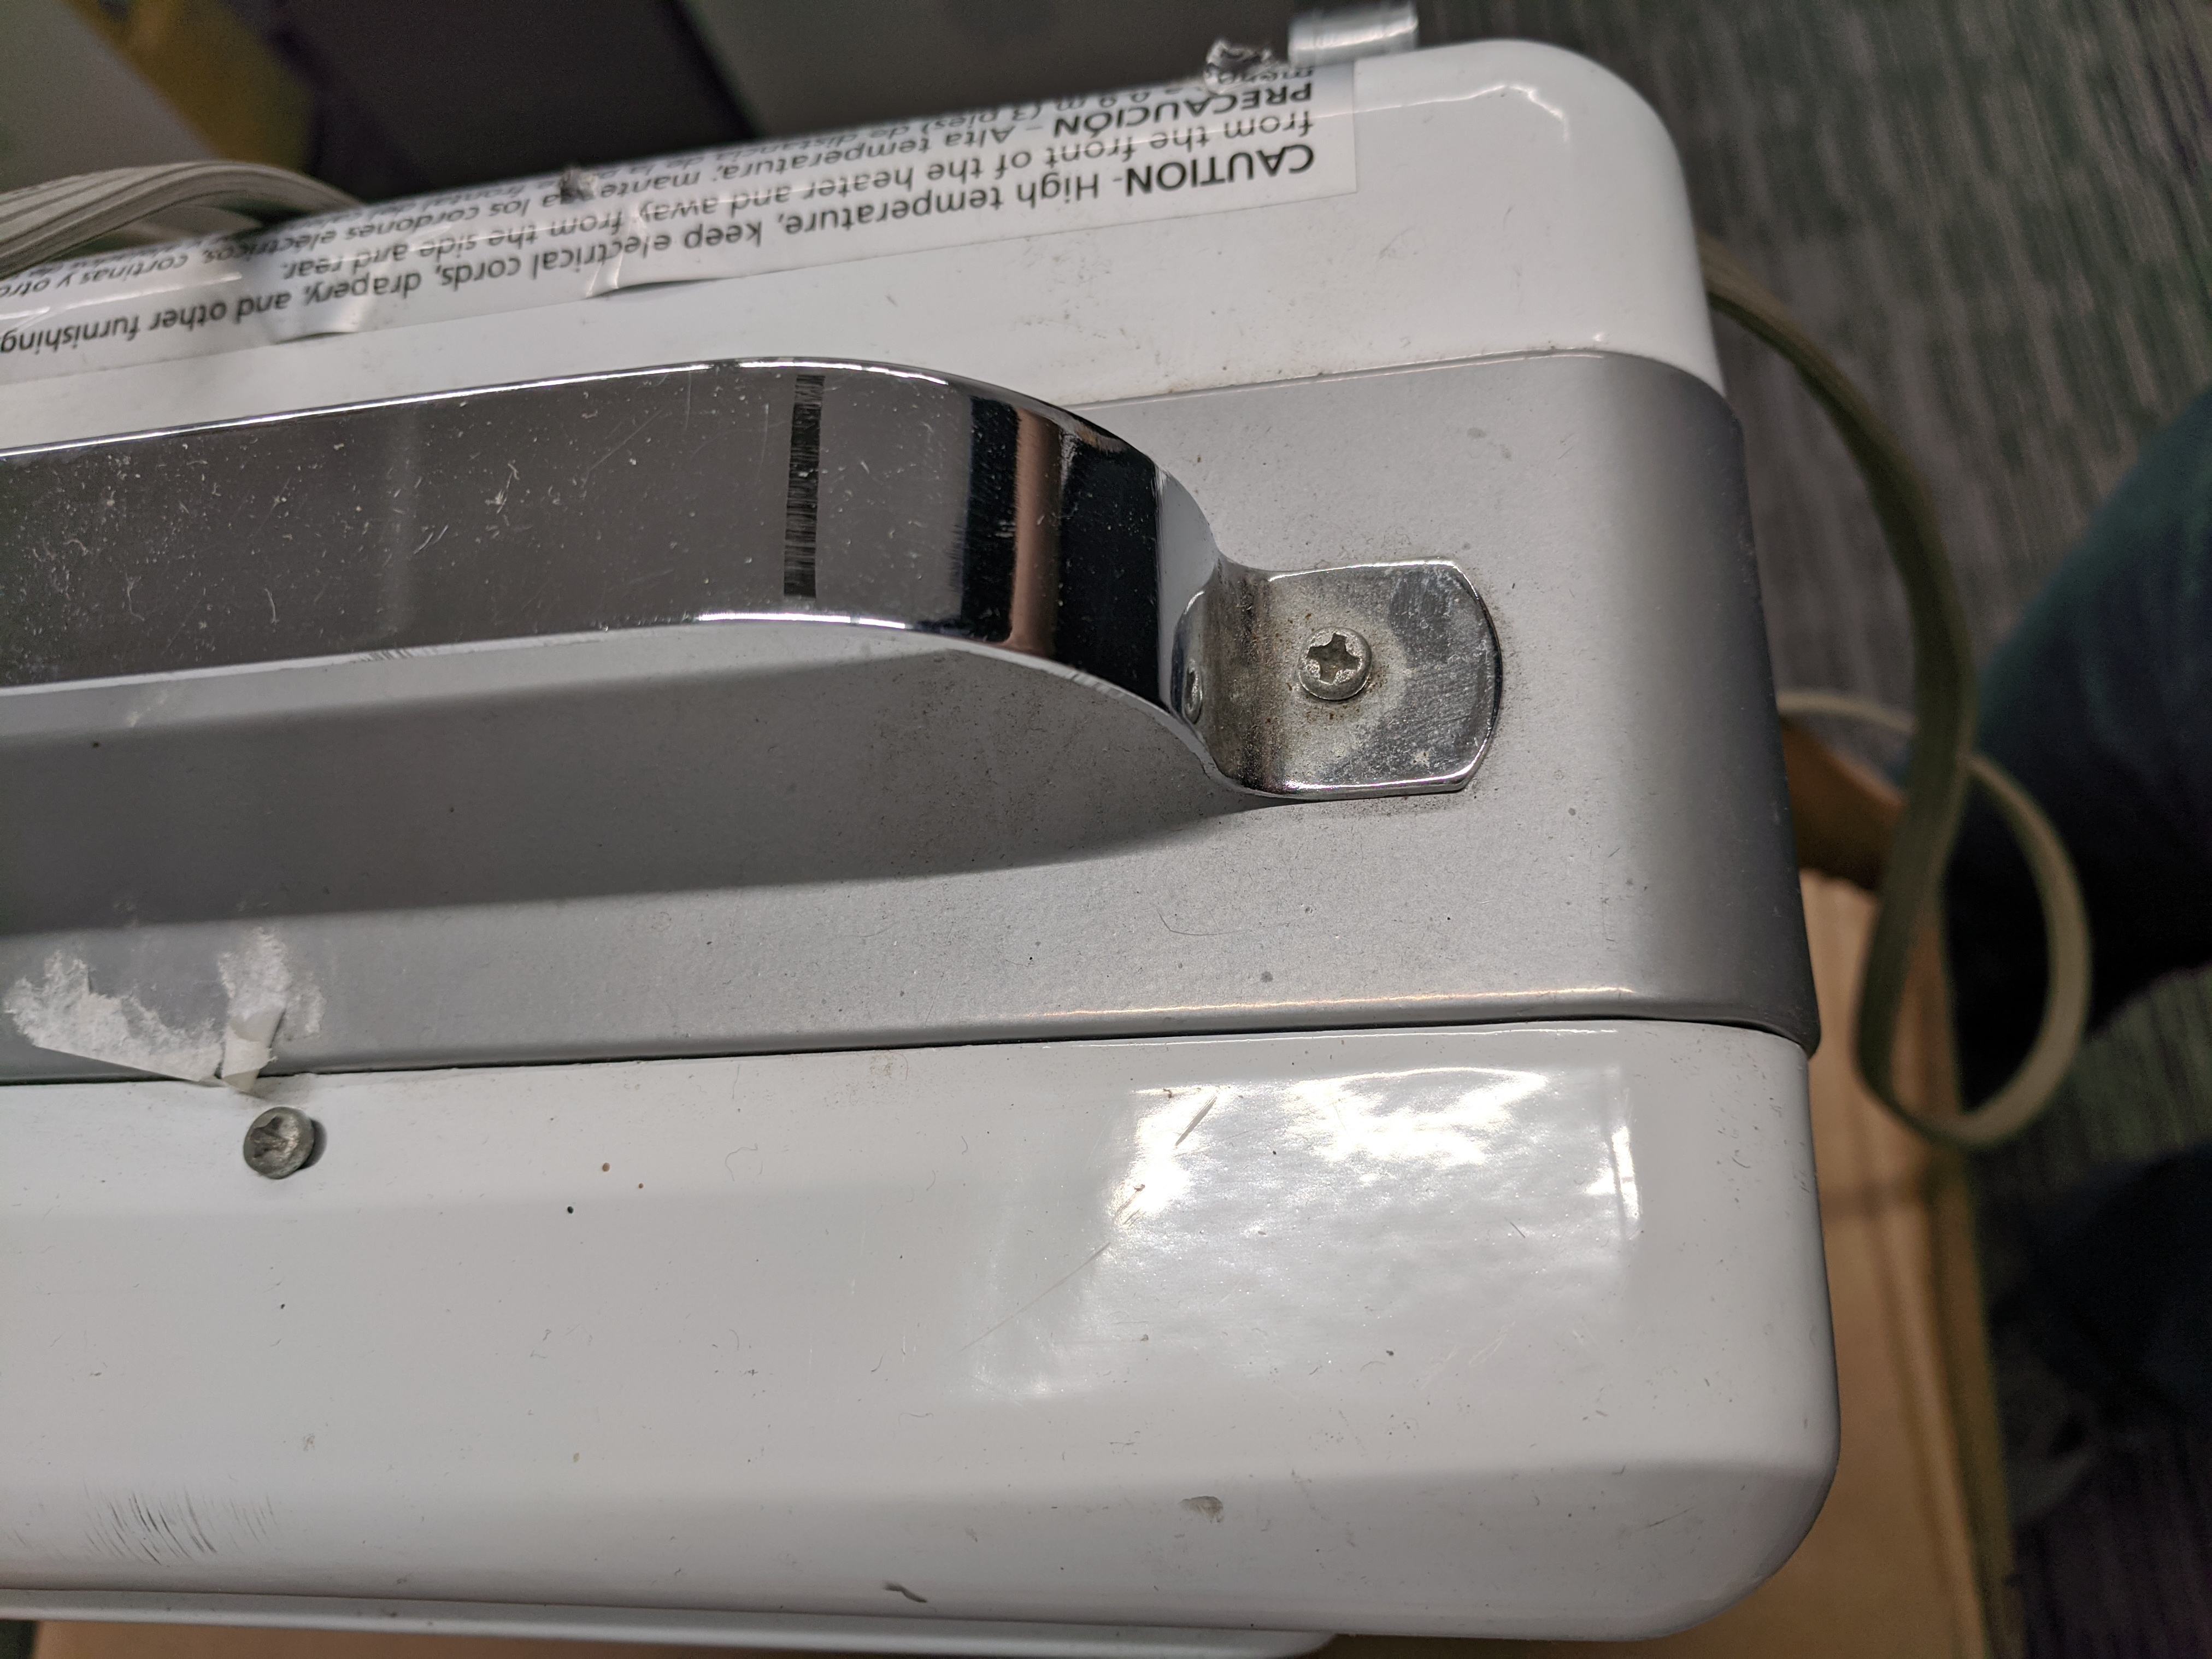cross_recessed_screw: (1291, 617, 1374, 702), (235, 1103, 317, 1175)
